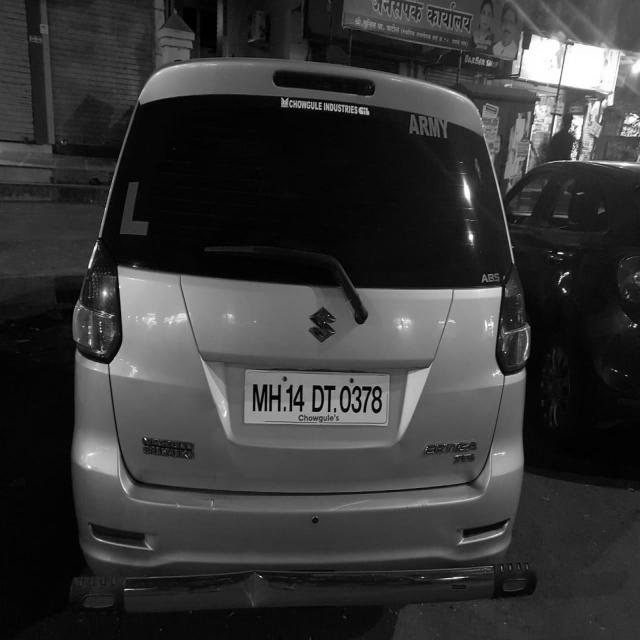car: (61, 53, 542, 629)
license-plate: (247, 372, 389, 429)
